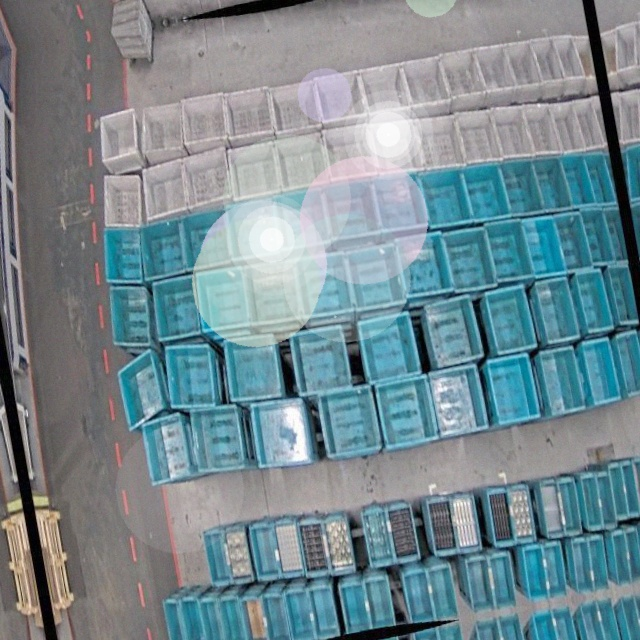Box: (218, 330, 287, 408), (355, 308, 423, 384), (374, 373, 439, 451), (420, 293, 484, 372), (315, 385, 382, 460), (287, 323, 353, 399), (187, 398, 250, 477), (247, 396, 313, 471), (113, 347, 169, 435), (159, 339, 222, 415), (145, 270, 206, 348), (137, 411, 197, 488), (241, 257, 304, 330), (191, 264, 254, 336), (344, 242, 408, 312), (321, 175, 382, 248), (292, 252, 356, 321), (428, 365, 488, 438), (270, 185, 332, 254), (133, 216, 193, 286), (396, 229, 453, 302), (103, 280, 159, 354), (486, 352, 541, 427), (223, 195, 283, 263), (136, 159, 195, 228), (482, 284, 537, 357), (440, 224, 496, 295), (179, 145, 235, 216), (370, 171, 429, 238), (177, 207, 236, 274), (96, 222, 150, 292), (225, 141, 284, 205), (176, 91, 234, 156), (322, 120, 379, 185), (220, 83, 277, 148), (134, 98, 189, 165), (483, 217, 535, 287), (419, 163, 473, 230), (95, 169, 149, 235), (274, 129, 330, 192), (266, 75, 322, 138), (358, 60, 411, 124), (371, 117, 424, 180), (538, 347, 585, 418), (401, 53, 452, 118), (313, 66, 368, 126), (439, 46, 488, 113), (96, 109, 145, 176), (533, 275, 579, 345), (414, 110, 464, 173), (522, 215, 567, 281), (453, 109, 503, 168), (572, 267, 614, 337), (462, 161, 509, 221), (579, 338, 620, 406), (489, 103, 536, 162), (499, 156, 544, 217), (504, 40, 545, 105), (476, 43, 517, 107), (522, 100, 563, 160), (247, 518, 283, 586), (532, 152, 572, 213), (221, 518, 257, 585), (532, 34, 569, 99), (385, 500, 420, 565), (321, 511, 356, 576), (555, 210, 592, 271), (553, 33, 588, 97), (560, 148, 597, 208), (606, 261, 639, 327), (360, 505, 394, 569), (424, 493, 459, 555), (485, 484, 518, 548), (449, 493, 483, 555), (581, 207, 616, 267), (272, 516, 305, 579), (202, 527, 235, 590), (570, 95, 605, 154), (296, 517, 329, 579), (507, 482, 539, 545), (553, 475, 584, 540), (463, 555, 498, 612), (427, 564, 460, 624), (549, 99, 585, 153), (307, 583, 341, 640), (613, 329, 640, 400), (402, 566, 435, 624), (362, 575, 397, 629), (535, 478, 565, 539), (487, 553, 519, 610), (521, 545, 552, 602), (585, 151, 616, 208), (283, 587, 316, 640), (540, 541, 570, 599), (339, 580, 370, 635), (592, 468, 618, 532), (584, 535, 612, 594), (569, 537, 596, 595), (605, 460, 630, 522), (573, 34, 598, 96), (603, 206, 629, 265), (608, 528, 634, 586), (578, 473, 603, 533), (261, 592, 292, 640), (239, 595, 271, 640), (219, 595, 248, 640), (619, 458, 640, 519), (180, 595, 207, 640), (160, 597, 188, 640), (199, 597, 226, 640), (621, 527, 640, 587), (629, 456, 640, 517), (639, 456, 640, 510)
